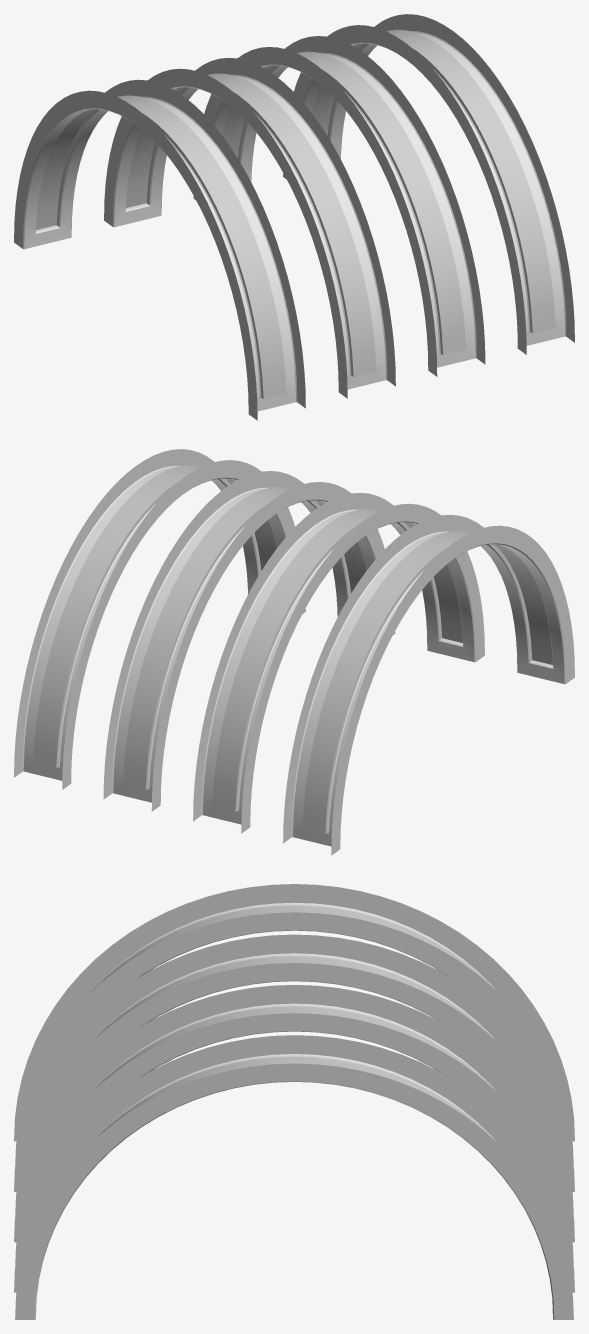
The model's file is SM_Arc_SasRing_A_V3.fbx.
3 views of the same model, one above another, from view 1: azimuth 30°, elevation 25°; view 2: azimuth 150°, elevation 25°; view 3: azimuth 270°, elevation 25° (orthographic). The views are drawn at different scales.
Parts seen in each view (by area): view 1: SM_Arc_SasRing_A_V3; view 2: SM_Arc_SasRing_A_V3; view 3: SM_Arc_SasRing_A_V3.
Part boxes in pixels (bbox=[...]): SM_Arc_SasRing_A_V3: bbox=[14, 14, 574, 420]; SM_Arc_SasRing_A_V3: bbox=[14, 449, 574, 855]; SM_Arc_SasRing_A_V3: bbox=[14, 884, 574, 1319].
Size of the model in its own units: 713 by 947 by 479.
